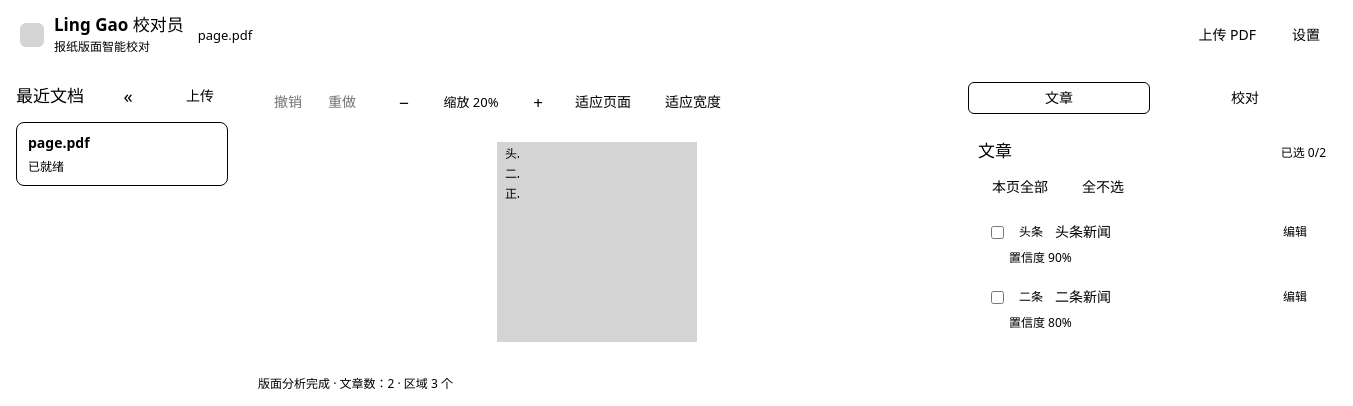
Test case: App tabs and narrow drawer › never auto-selects articles or auto-starts proofreading
Earlier steps of the test are not shown.
Expected: the checkbox labelled "头条 头条新闻" is not checked, [991,226,1004,238]
Expected: the checkbox labelled "二条 二条新闻" is not checked, [991,291,1004,304]
What coordinates should you click on to do the following:
click the tab "校对"
I would click on:
 (1245, 98)
Its box is [1154,82,1336,114].
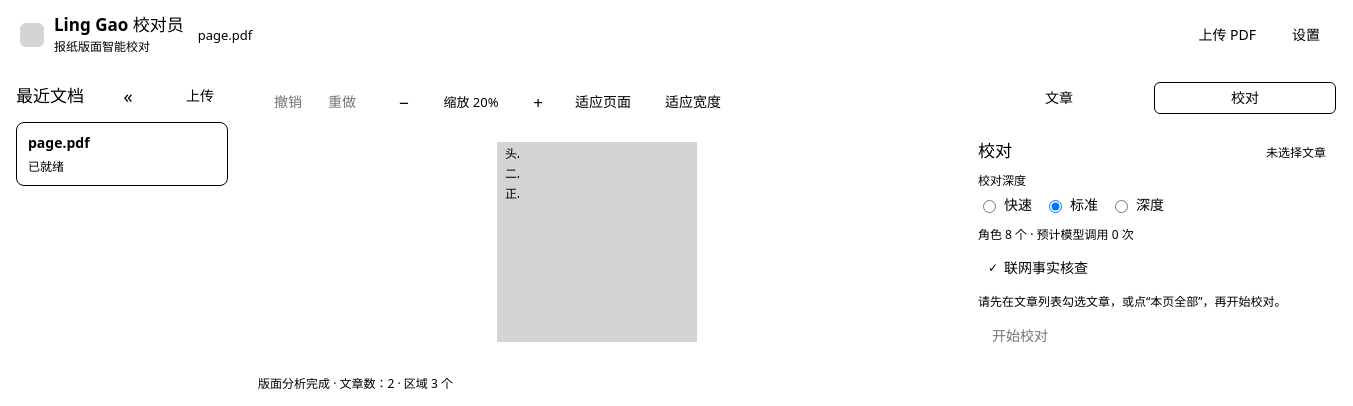
Expected: the button "开始校对" is disabled, [978,319,1062,351]
What coordinates should you click on to do the following:
click the tab "文章"
I would click on:
 (1059, 98)
Its box is [968,82,1150,114].
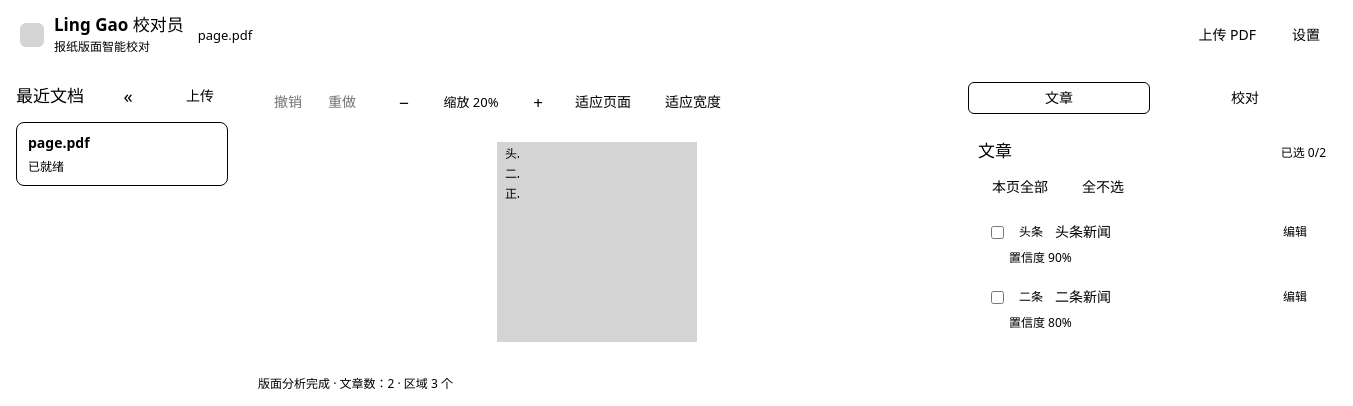
Expected: the checkbox labelled "头条 头条新闻" is not checked, [991,226,1004,238]
Expected: the checkbox labelled "二条 二条新闻" is not checked, [991,291,1004,304]
